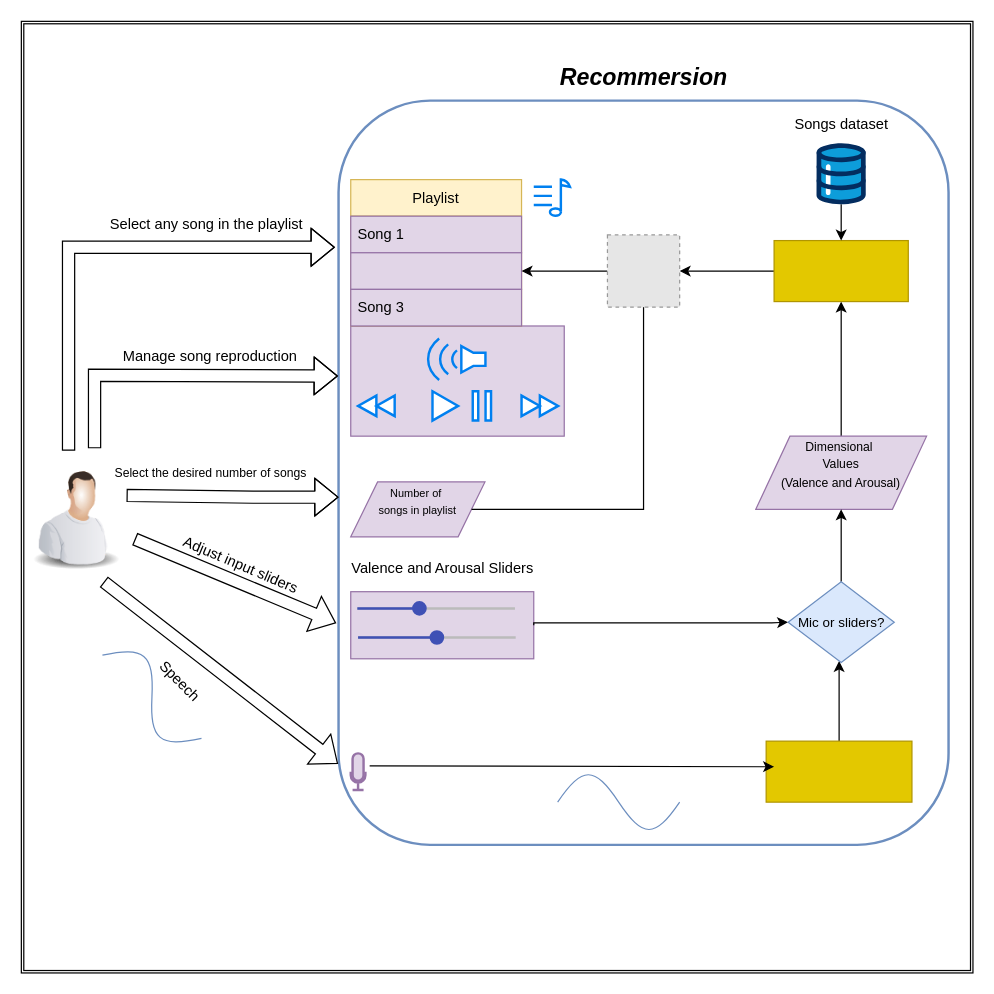
Image size: 994x994. Some labels were removed from this diagram. Grey dashed boxes stand in for pictures. The shapes that lost their labels are listed below. From the top down, each one's centre as x and y in pixels, then its label:
At (x=436, y=270): "Song 2".
At (x=840, y=270): "Similarity Criterium (Euclidean/Cosine)".
At (x=838, y=771): "SER model (Audeering or Custom)".
